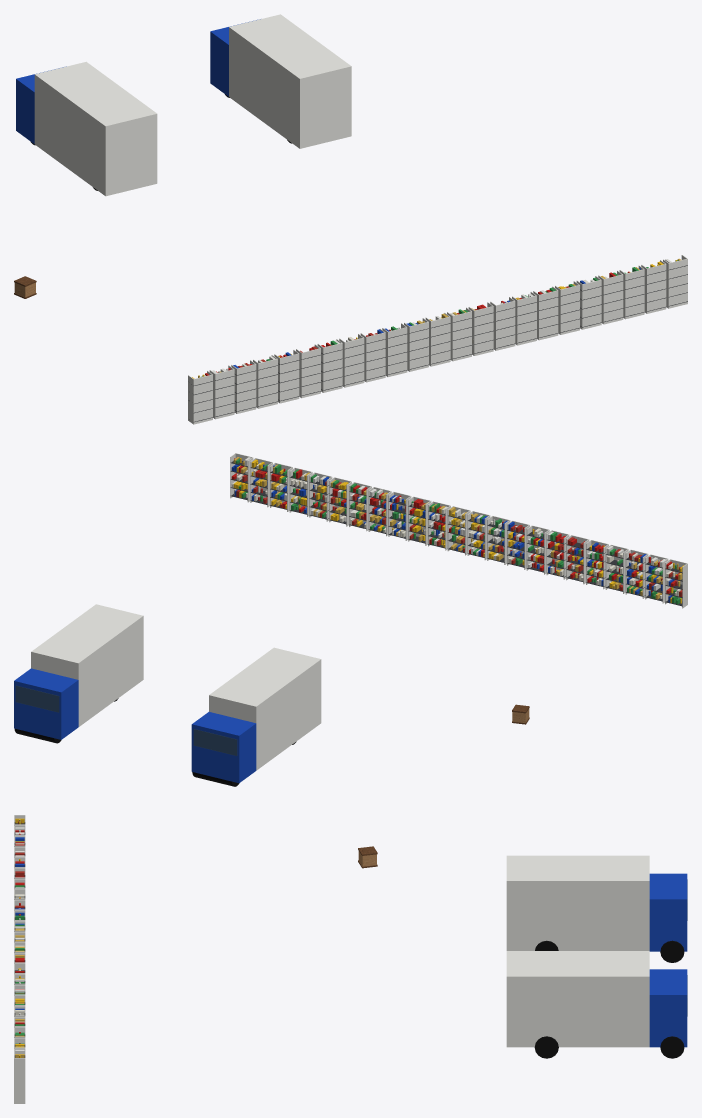
File: i_logistics_warehouse.gltf
3 renders of one model, top to bottom at view 1: azimuth 30°, elevation 25°; view 2: azimuth 150°, elevation 25°; view 3: azimuth 270°, elevation 25°, orthographic. The views are drawn at different scales.
Parts seen in each view (by area): view 1: I_logistics_warehouse; view 2: I_logistics_warehouse; view 3: I_logistics_warehouse.
Part boxes in pixels (x1,y1,x2,y2): I_logistics_warehouse: (14, 14, 687, 424); I_logistics_warehouse: (14, 453, 687, 786); I_logistics_warehouse: (14, 815, 687, 1103).
Bounding box in the file's own units: 22.96 × 3.6 × 26.83.
Materials: 13 (3 with a texture image).
